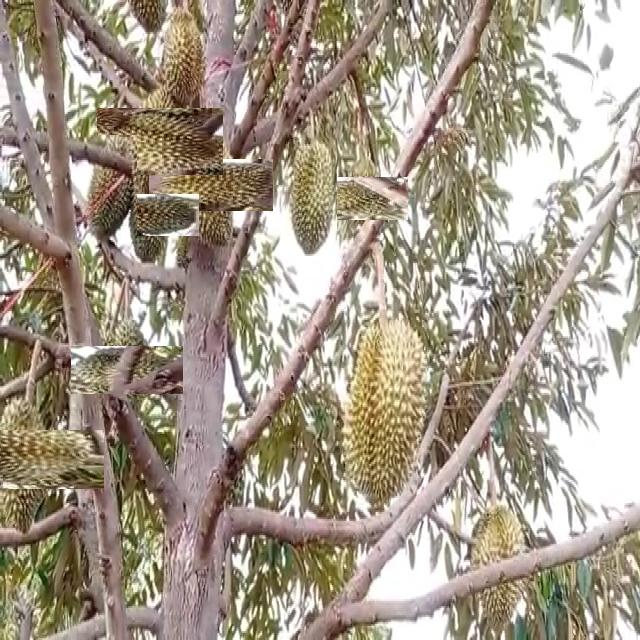durian: (339, 311, 434, 514), (112, 93, 209, 190), (0, 407, 83, 510), (466, 496, 528, 633), (167, 141, 255, 230), (87, 330, 168, 411), (82, 135, 137, 246), (286, 138, 336, 256), (156, 8, 208, 108), (113, 180, 185, 252), (330, 165, 397, 232)
